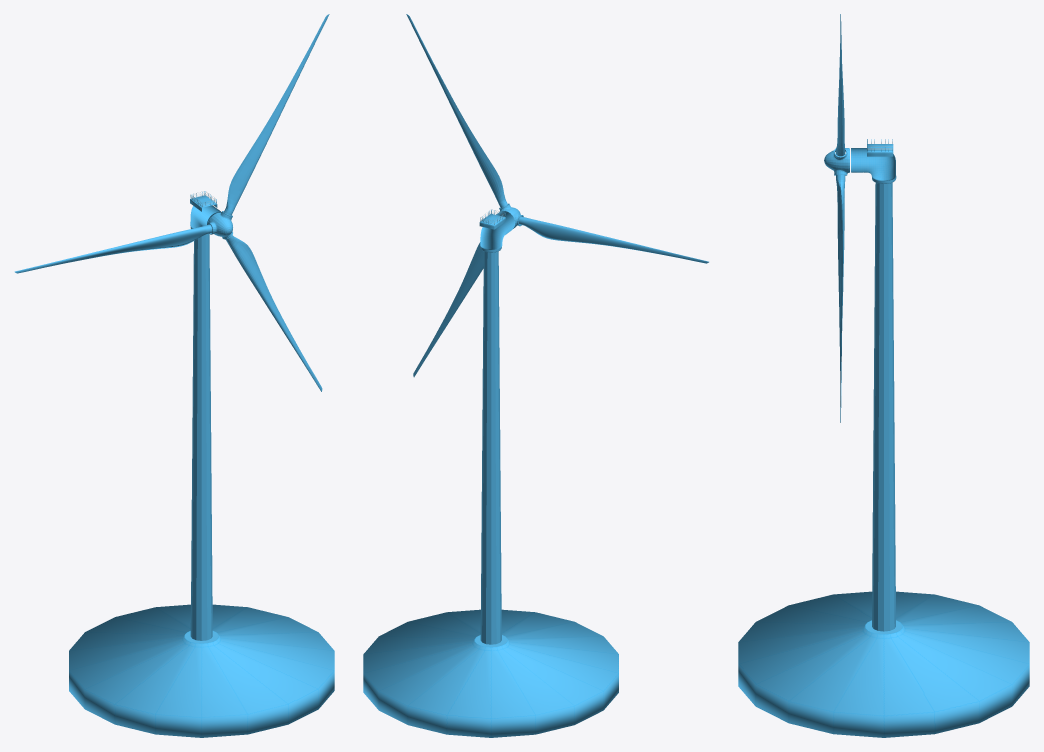
The model's file is banzhiqu_xiankuang.glb.
3 views of the same model, side by side, from view 1: azimuth 30°, elevation 25°; view 2: azimuth 150°, elevation 25°; view 3: azimuth 270°, elevation 25° (orthographic). The views are drawn at different scales.
Parts seen in each view (by area): view 1: banzhiqu_xiankuang_jichu, banzhiqu_xiankuang_tatong, xiankuang_yelun; view 2: banzhiqu_xiankuang_jichu, banzhiqu_xiankuang_tatong, xiankuang_yelun, xiankuang_jicang; view 3: banzhiqu_xiankuang_jichu, banzhiqu_xiankuang_tatong, xiankuang_yelun, xiankuang_jicang.
Part boxes in pixels (<box>): banzhiqu_xiankuang_jichu: <box>69,604,334,737</box>; banzhiqu_xiankuang_tatong: <box>190,224,212,640</box>; xiankuang_yelun: <box>14,14,329,391</box>; banzhiqu_xiankuang_jichu: <box>363,609,618,737</box>; banzhiqu_xiankuang_tatong: <box>480,247,501,644</box>; xiankuang_yelun: <box>406,14,708,377</box>; xiankuang_jicang: <box>480,211,515,249</box>; banzhiqu_xiankuang_jichu: <box>738,591,1029,737</box>; banzhiqu_xiankuang_tatong: <box>872,176,896,631</box>; xiankuang_yelun: <box>824,14,849,422</box>; xiankuang_jicang: <box>851,148,895,181</box>.
Bounding box in the file's own units: 7227 × 13960 × 5133.
Materials: 1 (1 with a texture image).
